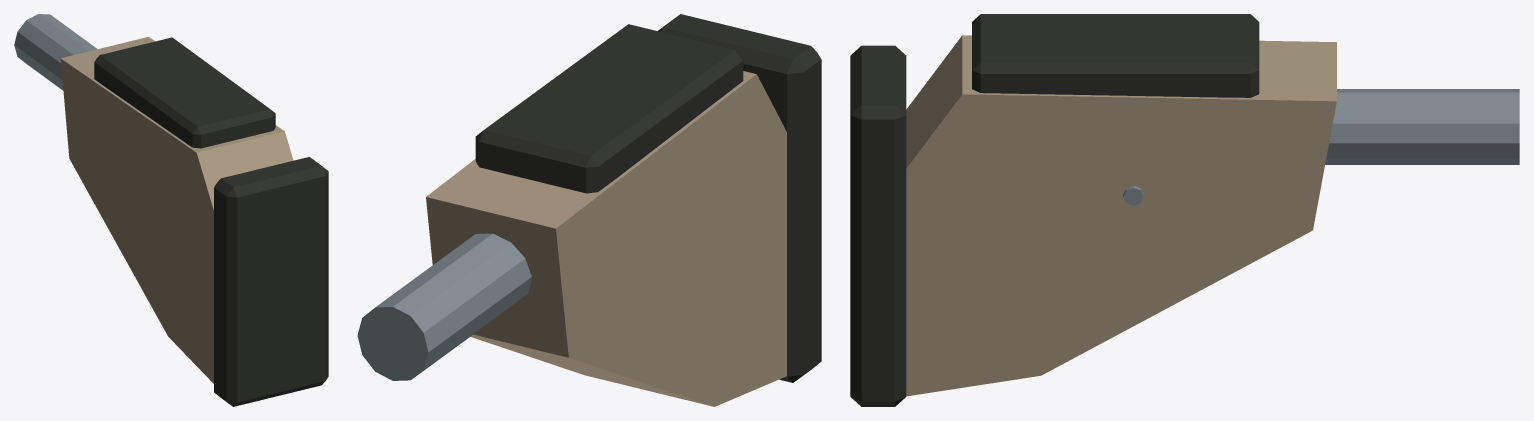
Rendered from att_stock_ar_light.glb.
The picture shows the model from 3 angles, left to right: view 1: azimuth 30°, elevation 25°; view 2: azimuth 150°, elevation 25°; view 3: azimuth 270°, elevation 25°; orthographic projection. The views are drawn at different scales.
Parts seen in each view (by area): view 1: Geometry_att_stock_ar_light; view 2: Geometry_att_stock_ar_light; view 3: Geometry_att_stock_ar_light.
Boxes of the visible parts, <box> form: Geometry_att_stock_ar_light: <box>14,14,328,406</box>; Geometry_att_stock_ar_light: <box>357,14,821,406</box>; Geometry_att_stock_ar_light: <box>850,14,1519,406</box>.
Bounding box in the file's own units: 0.067 × 0.147 × 0.263.
